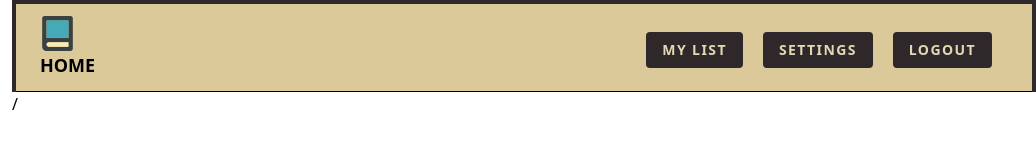
Scenario: test for header › should render "Settings" button which navigates to the settings page
Click the link "Settings": (818, 50) [763, 32, 873, 68]
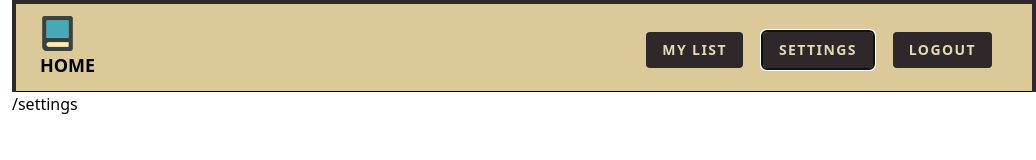
Now the text "/settings" is shown, box [12, 93, 78, 115]
